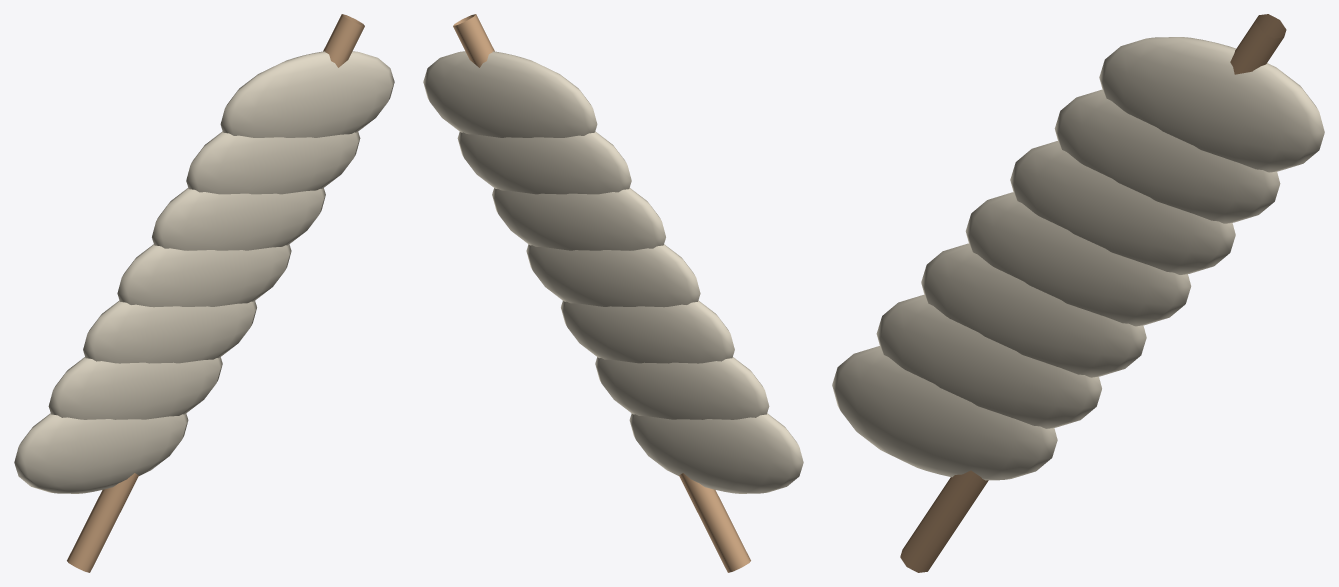
The model's file is ava-opposite-light.glb.
The picture shows the model from 3 angles, left to right: view 1: azimuth 30°, elevation 25°; view 2: azimuth 150°, elevation 25°; view 3: azimuth 330°, elevation 25°; orthographic projection. The views are drawn at different scales.
Parts seen in each view (by area): view 1: soft feather.006, soft feather, soft feather.004, soft feather.005, soft feather.001, soft feather.003, soft feather.002, feather stem; view 2: soft feather.006, soft feather, soft feather.004, soft feather.005, soft feather.001, soft feather.003, soft feather.002, feather stem; view 3: soft feather.006, soft feather, soft feather.004, soft feather.003, soft feather.002, soft feather.005, soft feather.001, feather stem.
Part boxes in pixels (box(x1,y1,x2,y2)): soft feather.006: box(220, 51, 394, 137); soft feather: box(14, 413, 188, 493); soft feather.004: box(152, 188, 325, 250); soft feather.005: box(186, 131, 360, 194); soft feather.001: box(48, 357, 222, 419); soft feather.003: box(117, 244, 291, 307); soft feather.002: box(83, 300, 256, 363); feather stem: box(67, 14, 364, 572); soft feather.006: box(423, 51, 597, 137); soft feather: box(629, 413, 803, 493); soft feather.004: box(492, 188, 665, 250); soft feather.005: box(457, 131, 631, 194); soft feather.001: box(595, 357, 769, 419); soft feather.003: box(526, 244, 700, 307); soft feather.002: box(561, 300, 734, 363); feather stem: box(453, 14, 750, 572); soft feather.006: box(1099, 37, 1324, 172); soft feather: box(832, 346, 1057, 480); soft feather.004: box(1010, 141, 1235, 274); soft feather.003: box(965, 192, 1191, 326); soft feather.002: box(921, 243, 1146, 377); soft feather.005: box(1054, 89, 1280, 223); soft feather.001: box(876, 295, 1101, 428); feather stem: box(900, 14, 1286, 572).
Bounding box in the file's own units: 0.83 × 1.03 × 0.08.
